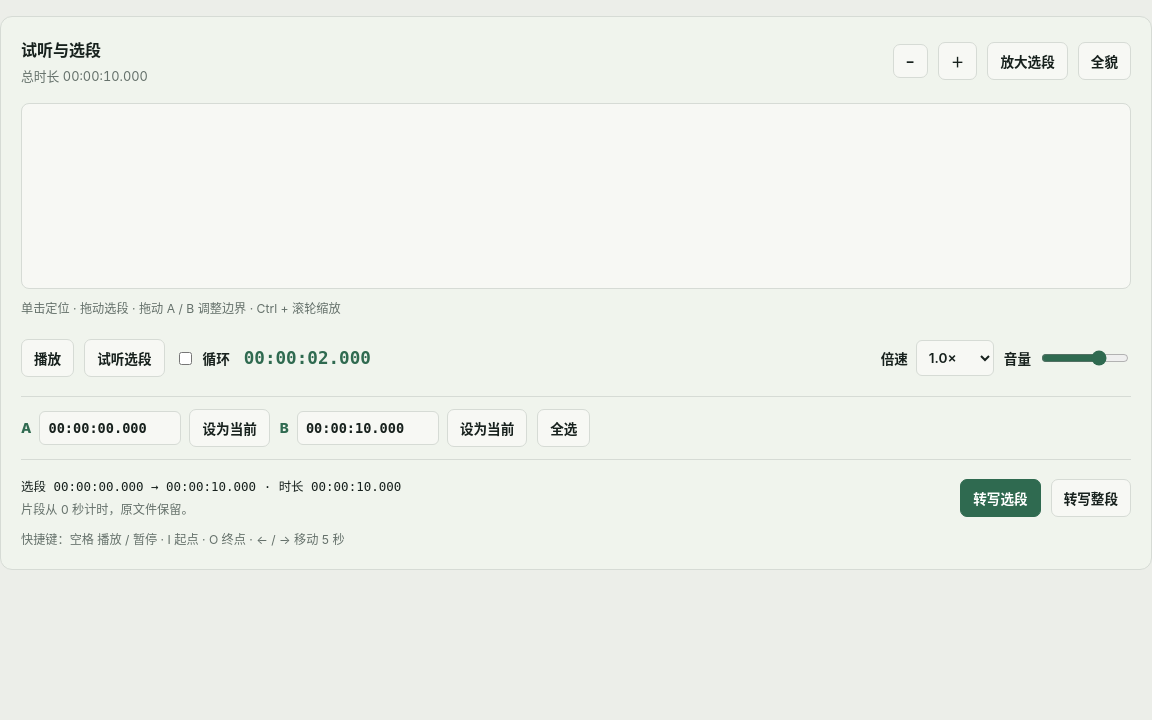
Test: marks the cursor with scoped shortcuts and ignores input and button Space
Press i in the element named "音频范围编辑器"
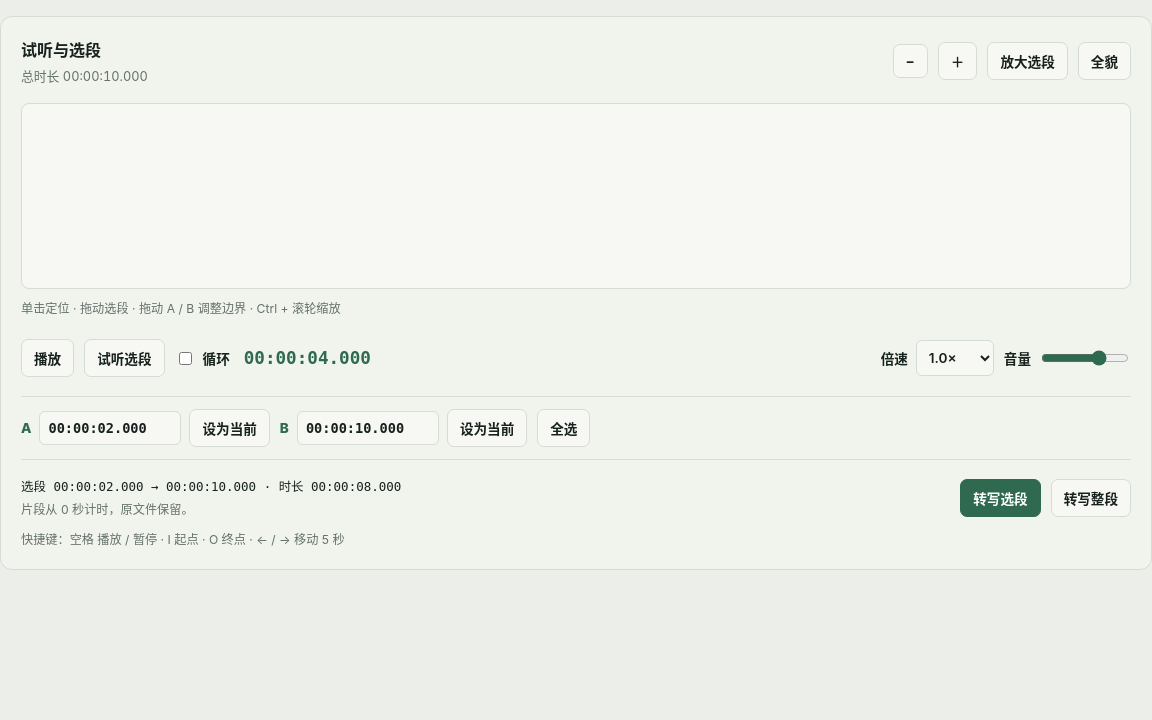
Now the field named "片段开始时间" holds "00:00:02.000", box [40,411,182,445]
Click the button with aria-label "将当前播放位置设为 B 终点": [487, 428] box [447,409,527,447]
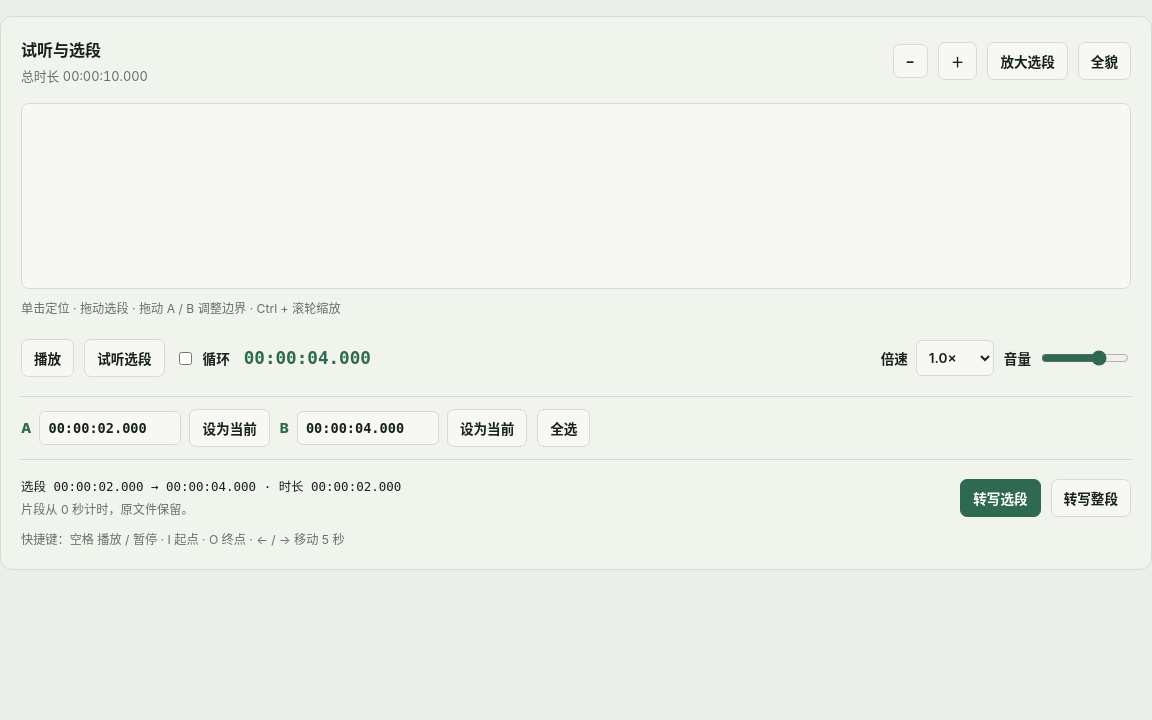
Now the field named "片段结束时间" holds "00:00:04.000", box [297,411,439,445]
Press Space in the field named "片段开始时间", box [40,411,182,445]
Press Space in the button "播放", box [21,339,74,377]
Press Space in the element named "音频范围编辑器"
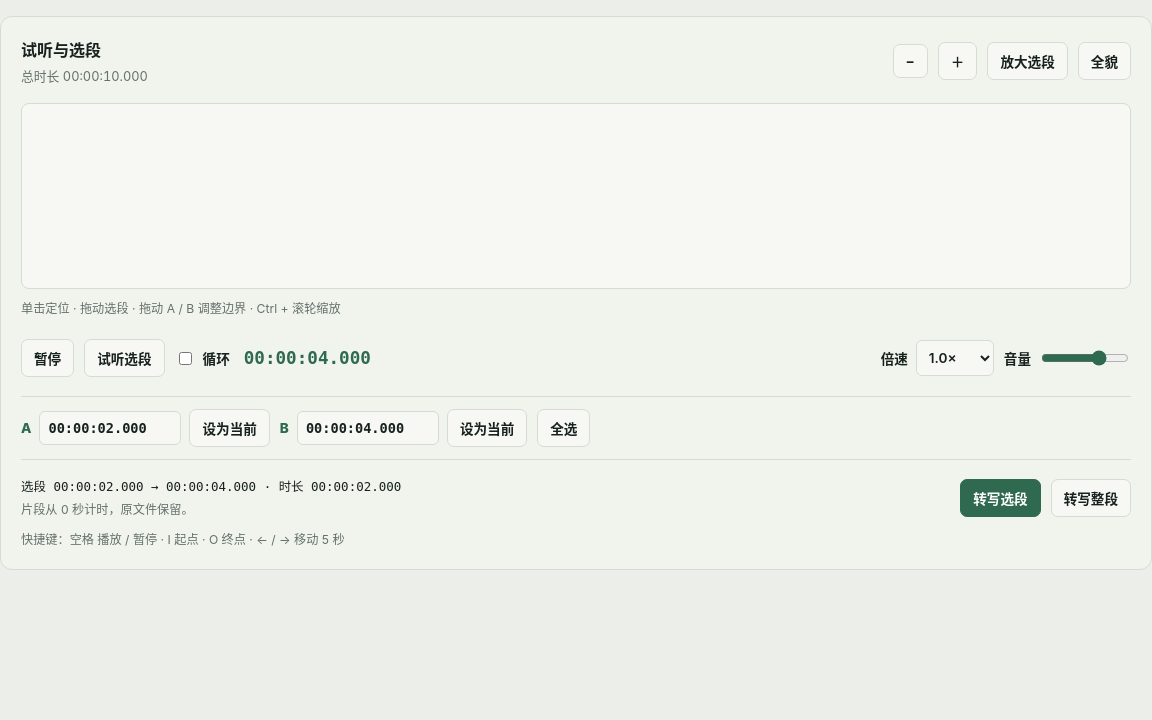
Press ArrowRight in the element named "音频范围编辑器"
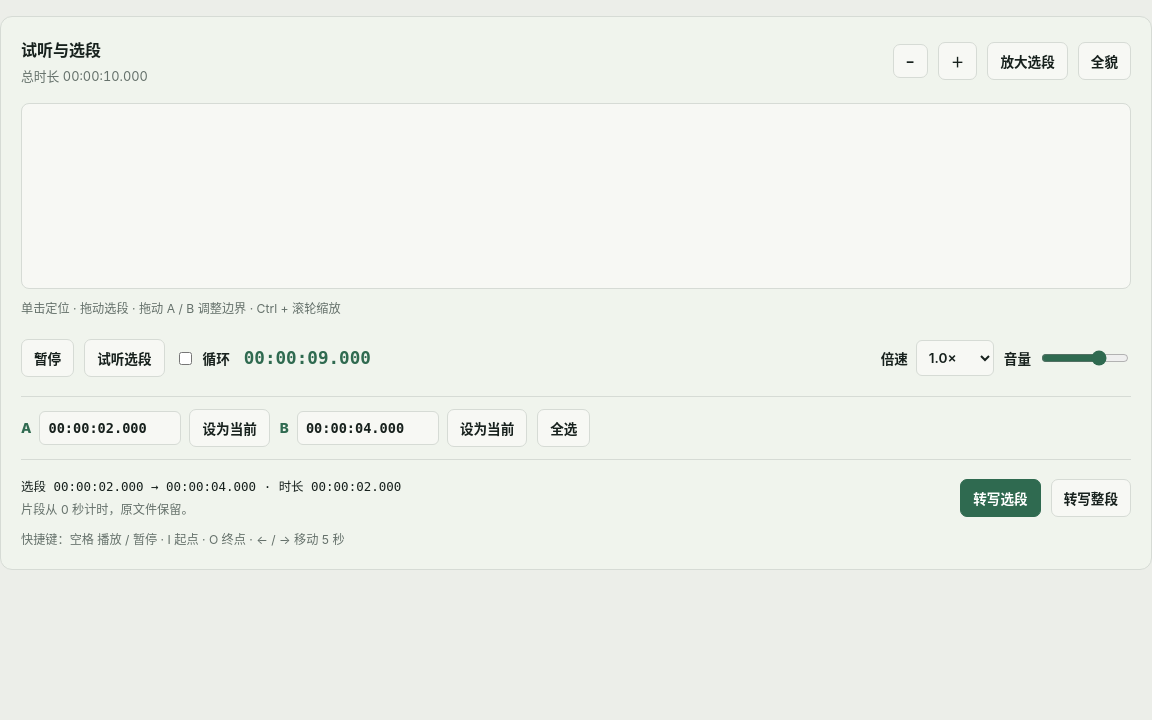
Press o in the element named "音频范围编辑器"
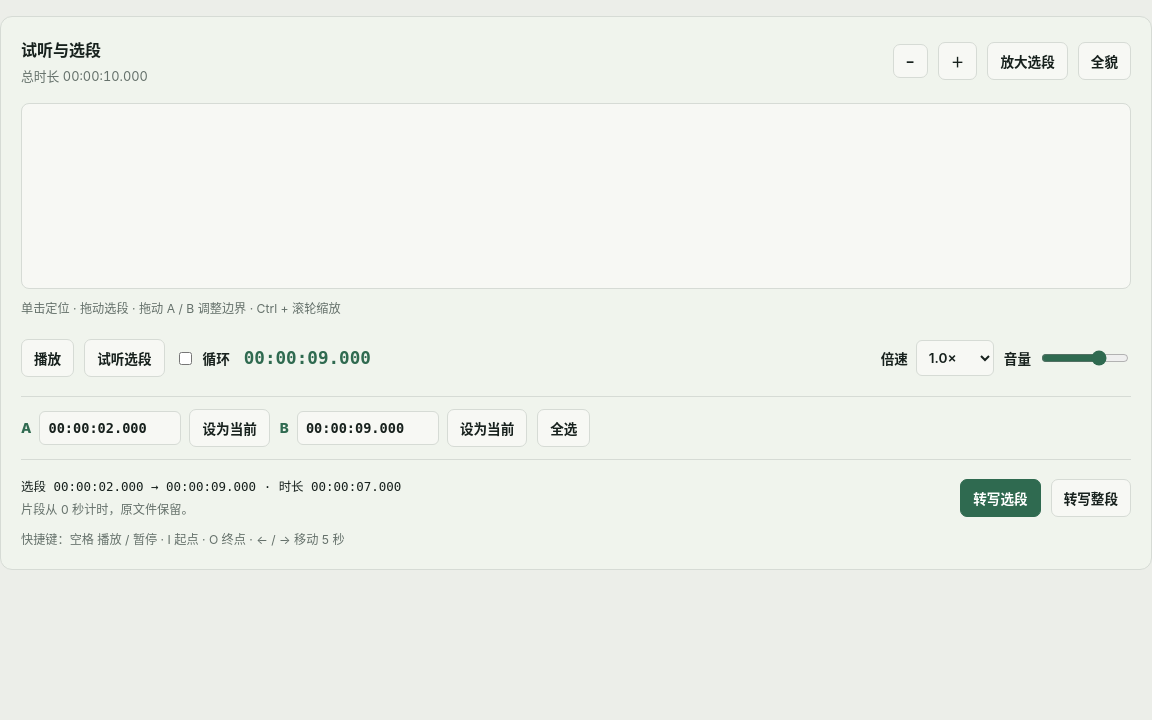
Now the field named "片段结束时间" holds "00:00:09.000", box [297,411,439,445]
